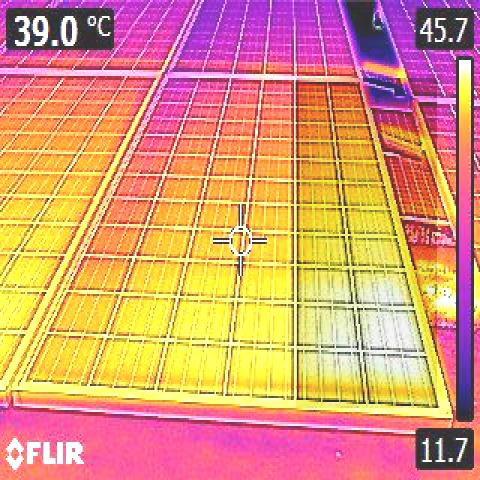fault: (296, 78, 437, 408)
